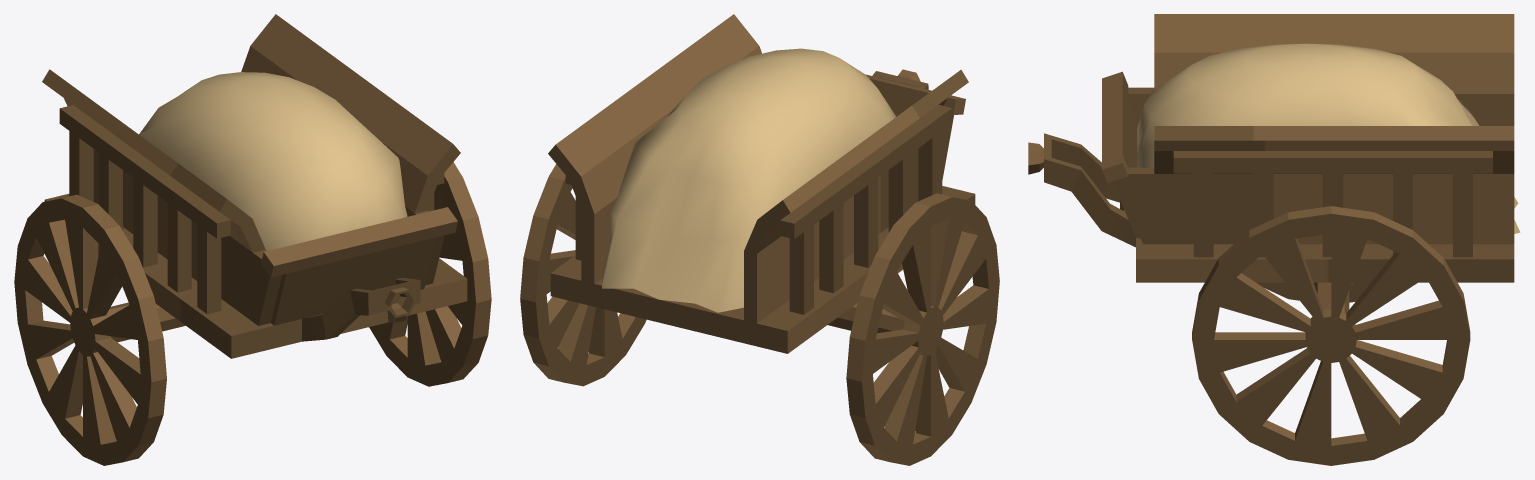
Rendered from Hay Kart.fbx.
3 views of the same model, side by side, from view 1: azimuth 30°, elevation 25°; view 2: azimuth 150°, elevation 25°; view 3: azimuth 270°, elevation 25° (orthographic).
Parts seen in each view (by area): view 1: Wheel_L_Mesh2; view 2: Wheel_L_Mesh2; view 3: Wheel_L_Mesh2.
Boxes of the visible parts, box(x1,y1,x2,y2) form: Wheel_L_Mesh2: box(14, 14, 491, 465); Wheel_L_Mesh2: box(520, 14, 999, 465); Wheel_L_Mesh2: box(1028, 14, 1520, 465).
Bounding box in the file's own units: 142 × 129 × 175.
Materials: 1 (1 with a texture image).
